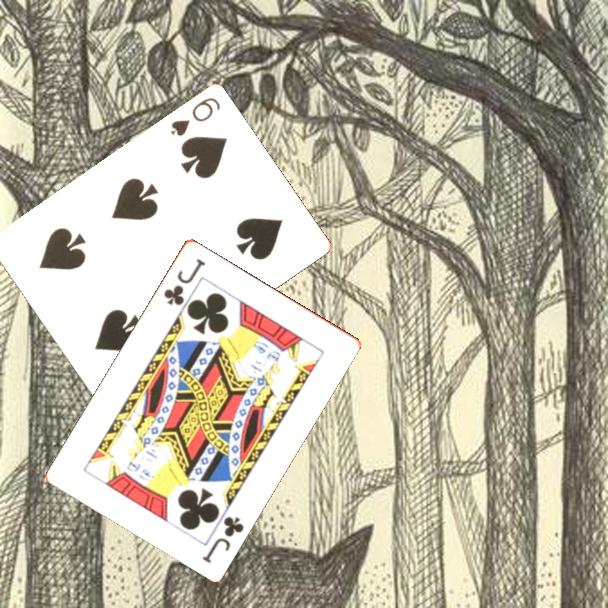c11: (198, 512, 247, 566), (160, 254, 208, 308)
s06: (167, 94, 223, 139)
